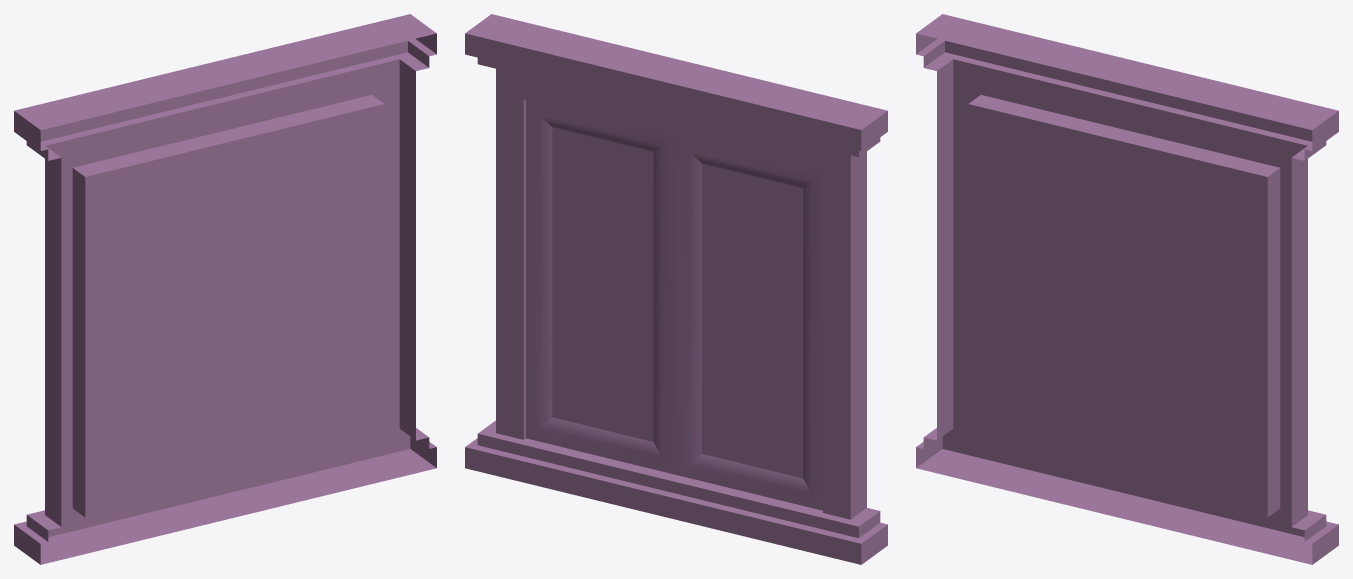
Rendered from door.fbx.
The picture shows the model from 3 angles, left to right: view 1: azimuth 30°, elevation 25°; view 2: azimuth 150°, elevation 25°; view 3: azimuth 330°, elevation 25°; orthographic projection.
Parts seen in each view (by area): view 1: door_frame, door_right, door_left; view 2: door_frame, door_left, door_right; view 3: door_frame, door_left, door_right.
Boxes of the visible parts, x1,y1,x2,y2 form: door_frame: [14, 14, 436, 564]; door_right: [75, 140, 234, 517]; door_left: [235, 103, 384, 480]; door_frame: [465, 14, 887, 564]; door_left: [526, 100, 675, 474]; door_right: [675, 136, 822, 510]; door_frame: [916, 14, 1338, 564]; door_left: [1118, 140, 1277, 517]; door_right: [968, 103, 1117, 480].
Bounding box in the file's own units: 384 × 403 × 44.48.
